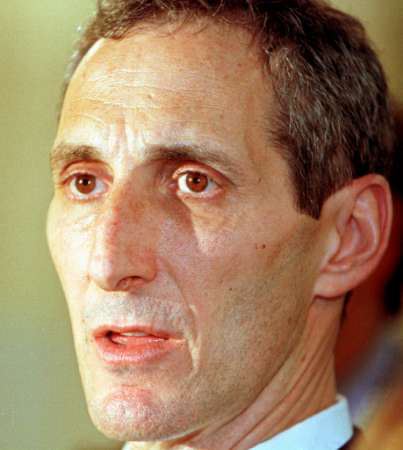Face: (24, 63, 325, 435)
